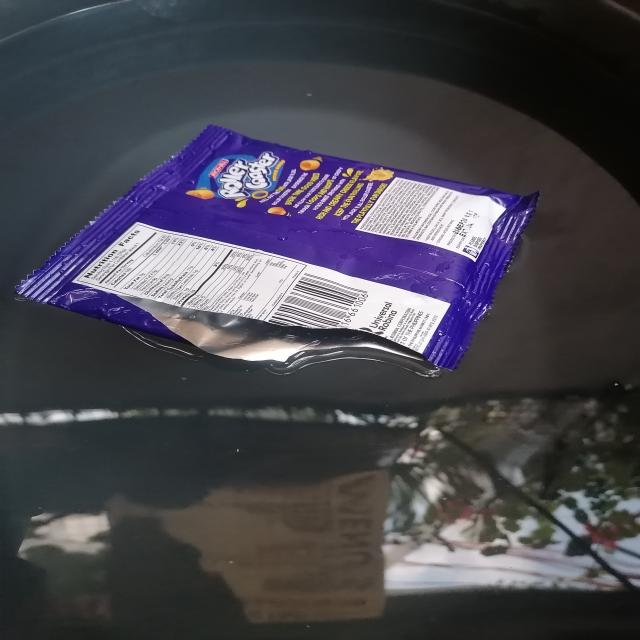Plastic Wrapper: (16, 126, 539, 377)
